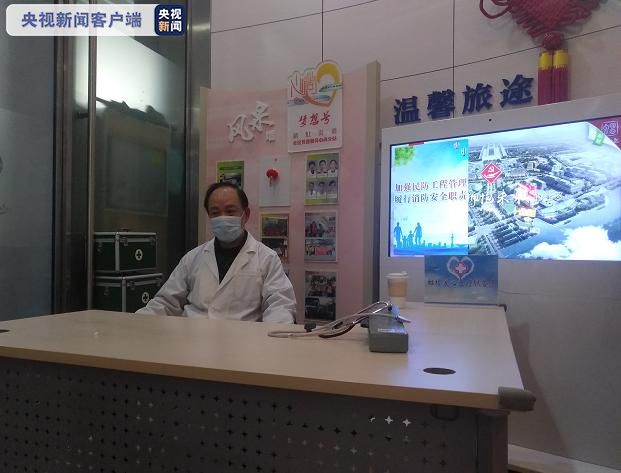rightmask: (204, 177, 255, 257)
